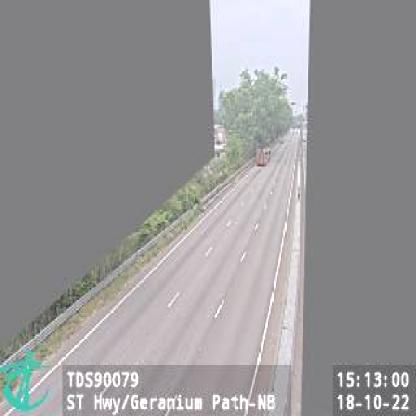Truck: (257, 149, 272, 168)
